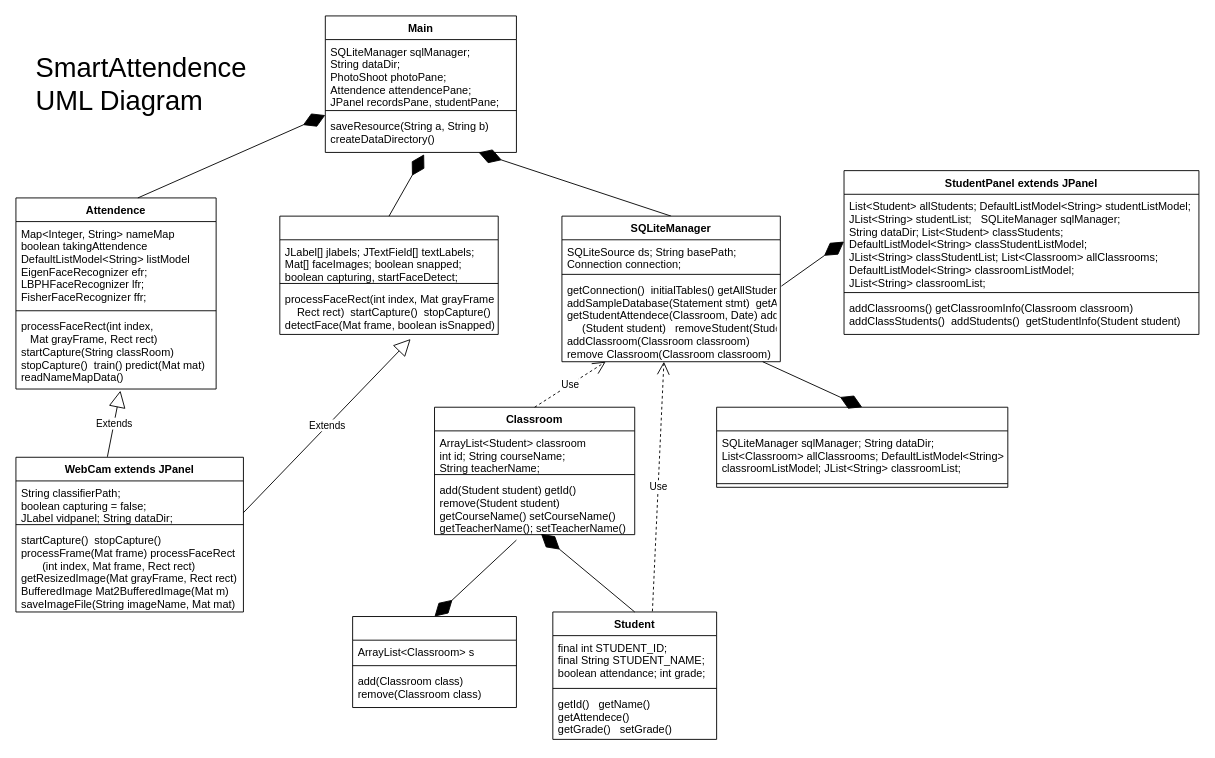
Image size: 1215x758. Some labels were removed from this diagram. Each missing label, with the box of its shape:
PhotoShoot: (279, 215, 498, 334)
RecordsPanel extends JPanel: (716, 406, 1008, 487)
School: (352, 616, 516, 708)
